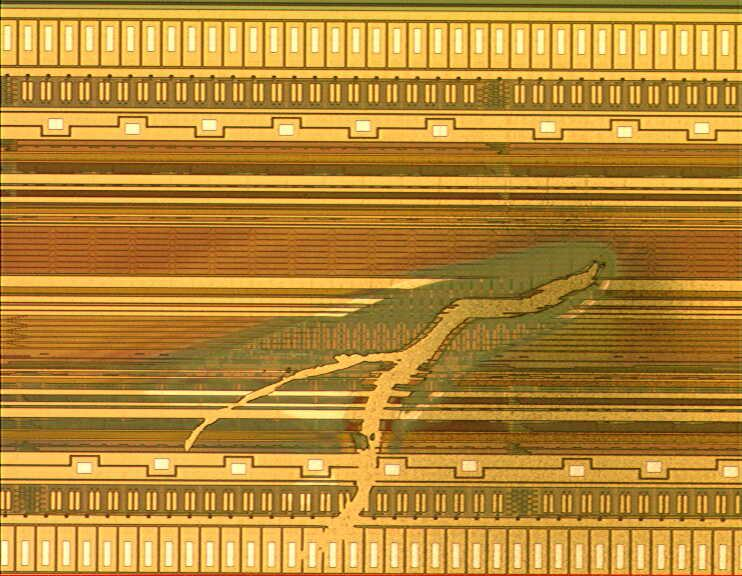BLOCK ETCH: (130, 242, 618, 566)
